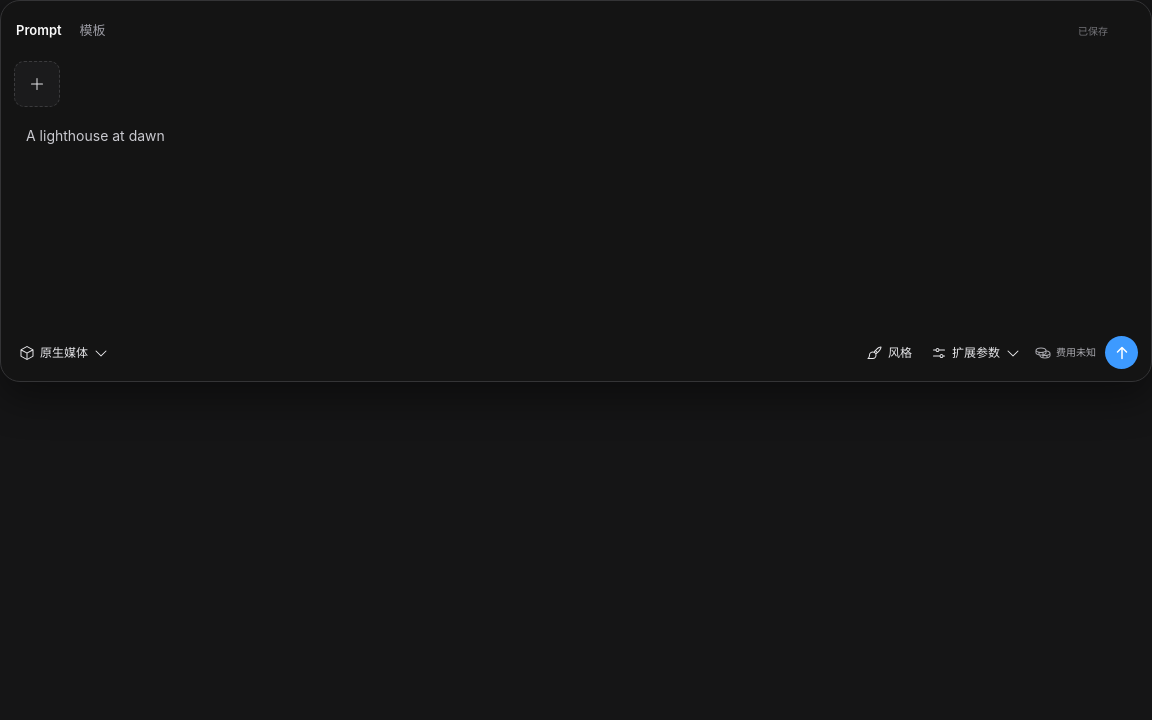
MediaDraftEditor › keeps Omni native duration separate and checks explicit image-to-video tasks
The image size is (1152, 720).
Expected: the text "费用未知" is shown, left=1056, top=345, right=1096, bottom=360
Click the button named "运行".
click(1122, 352)  # box left=1105, top=336, right=1138, bottom=369
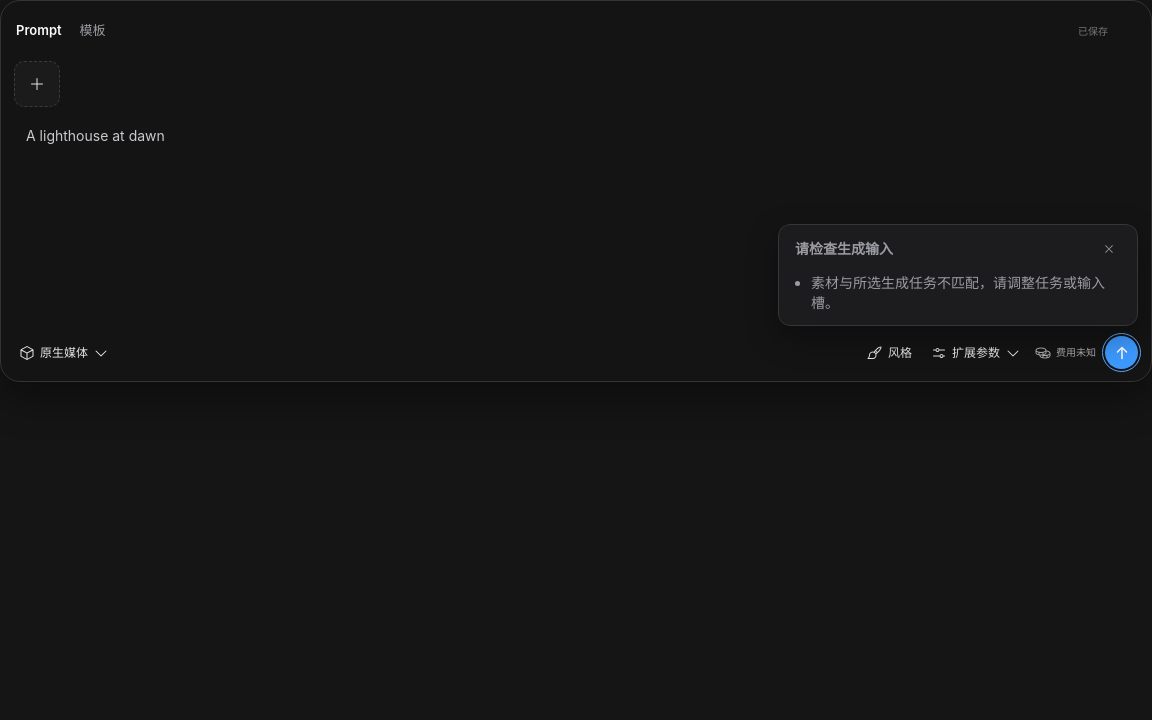
Now the list item "素材与所选生成任务不匹配，请调整任务或输入槽。" is shown, box left=811, top=273, right=1121, bottom=313
